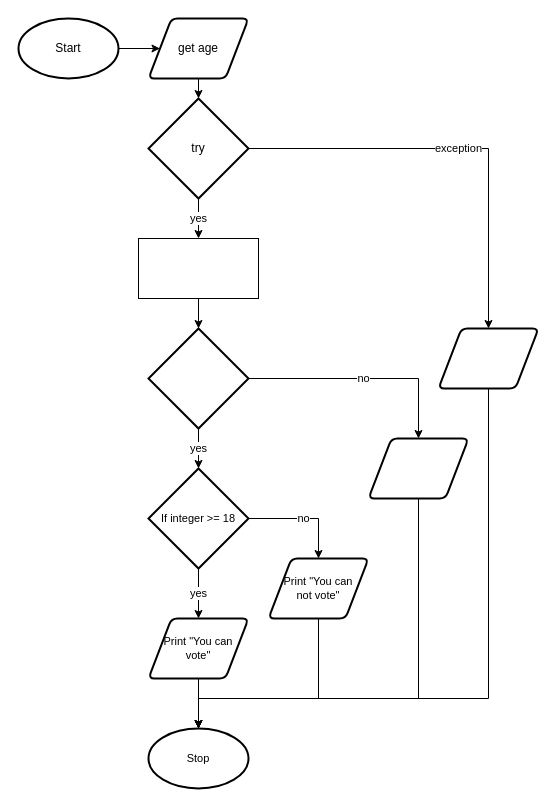
Image size: 556x806. Some labels were removed from this diagram. Each missing label, with the centre of its shape:
If integer > 0: (x=198, y=378)
Print "That is impossible": (x=418, y=468)
Print "That is not an age": (x=488, y=358)
Turn age to integer: (x=198, y=268)
